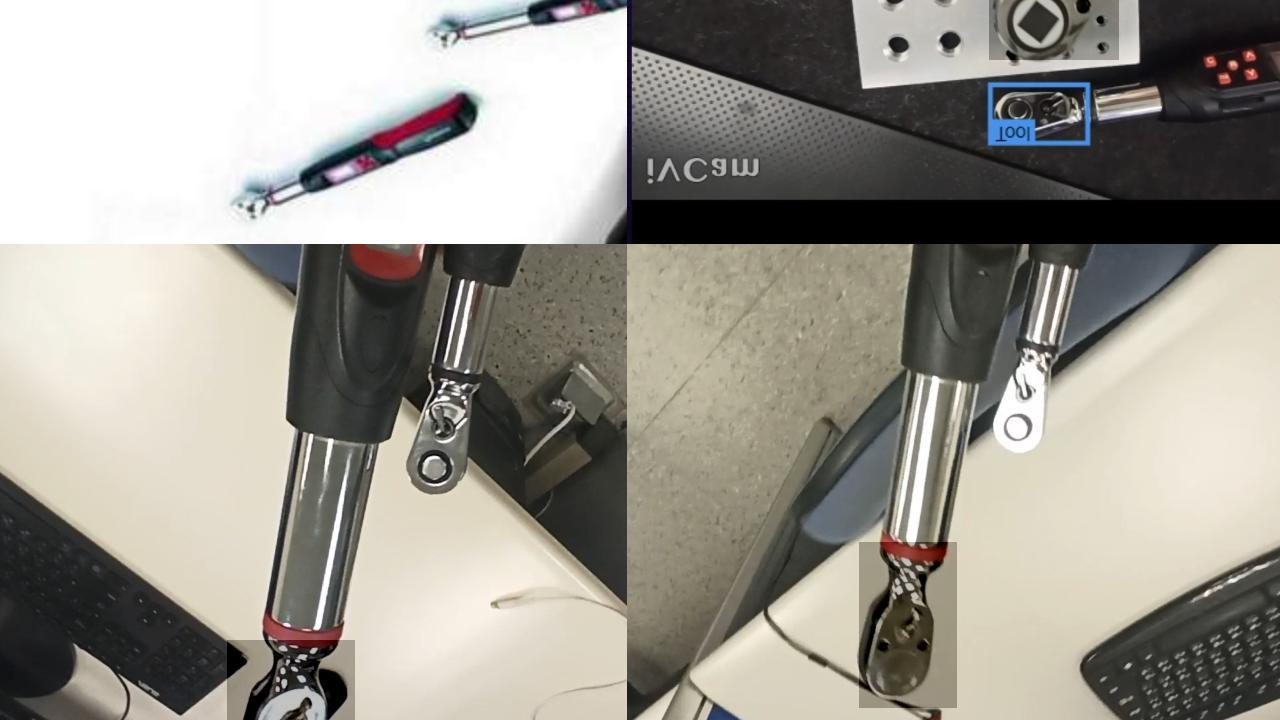Tool: (859, 542, 957, 708), (227, 640, 355, 720), (399, 386, 486, 500), (989, 0, 1119, 60), (992, 357, 1062, 459)
hole: (877, 34, 920, 62), (930, 30, 971, 56), (1091, 4, 1110, 31), (1088, 39, 1116, 55), (1002, 43, 1022, 63), (879, 0, 913, 11), (931, 0, 964, 8), (1061, 47, 1070, 62)
